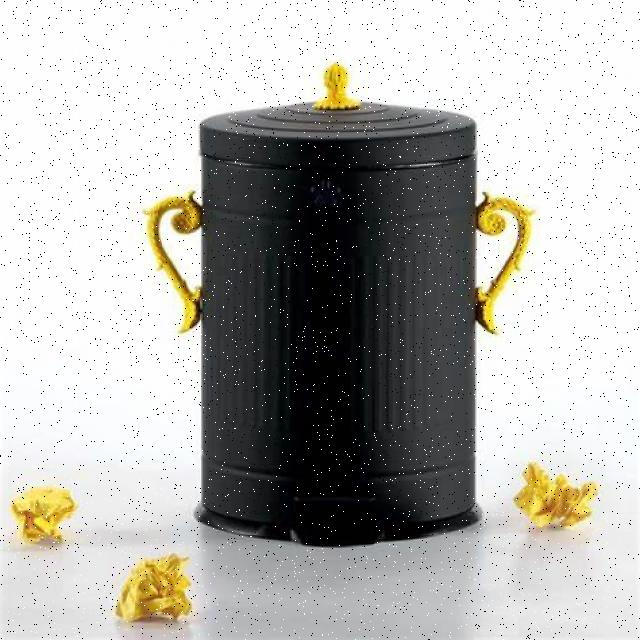garbage container: (132, 54, 542, 555)
